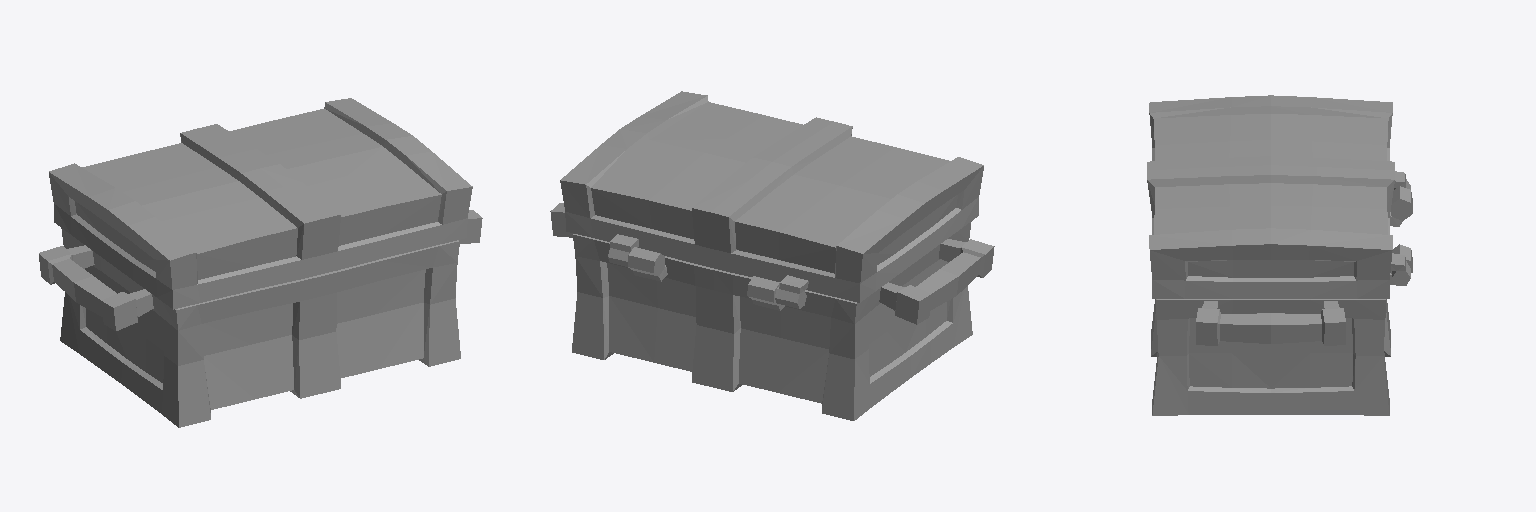
The model's file is chest5.obj.
3 views of the same model, side by side, from view 1: azimuth 30°, elevation 25°; view 2: azimuth 150°, elevation 25°; view 3: azimuth 270°, elevation 25° (orthographic).
Parts seen in each view (by area): view 1: chest5001; view 2: chest5001; view 3: chest5001.
Part boxes in pixels (left/top/right/bottom): chest5001: left=39, top=98, right=482, bottom=427; chest5001: left=550, top=91, right=994, bottom=420; chest5001: left=1147, top=95, right=1412, bottom=415.
Bounding box in the file's own units: 2.54 × 1.18 × 1.57.